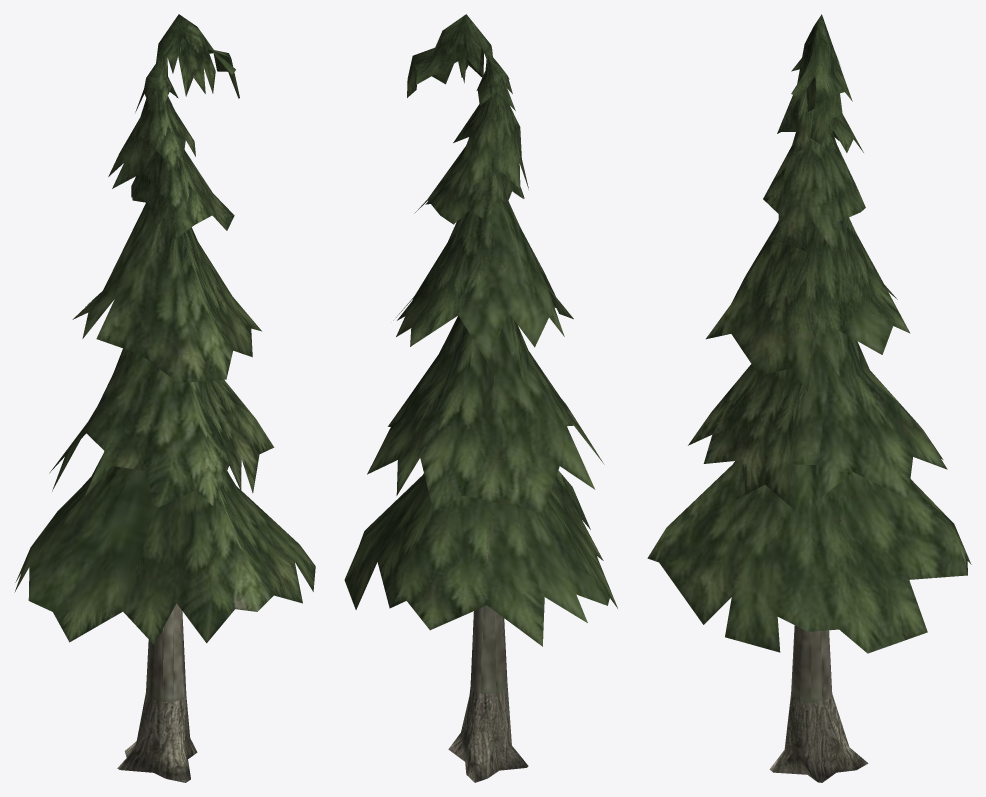
Rendered from tree-spruce-03.glb.
The picture shows the model from 3 angles, left to right: view 1: azimuth 30°, elevation 25°; view 2: azimuth 150°, elevation 25°; view 3: azimuth 270°, elevation 25°; orthographic projection. The views are drawn at different scales.
Bounding box in the file's own units: 0.3506 × 0.9521 × 0.3657.
1 material, 1 textured.
